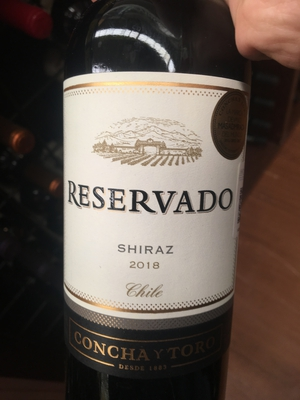reservado shiraz: (48, 19, 255, 399)
